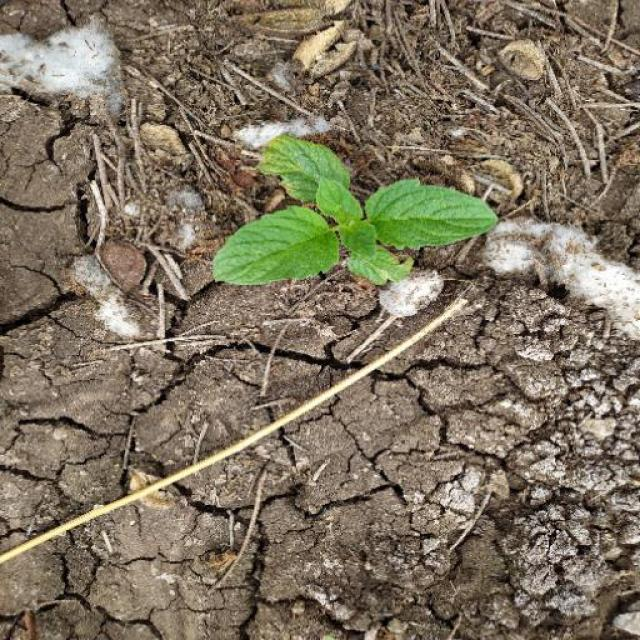crop: (201, 125, 501, 313)
